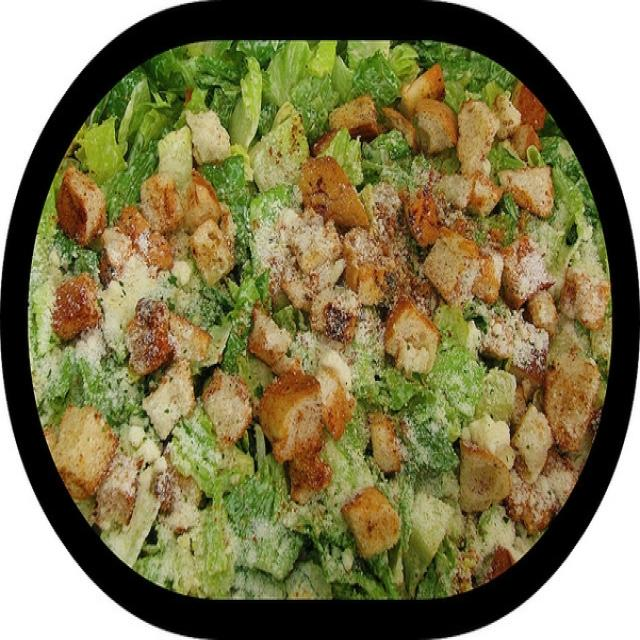蔬菜料理: (38, 23, 598, 602)
